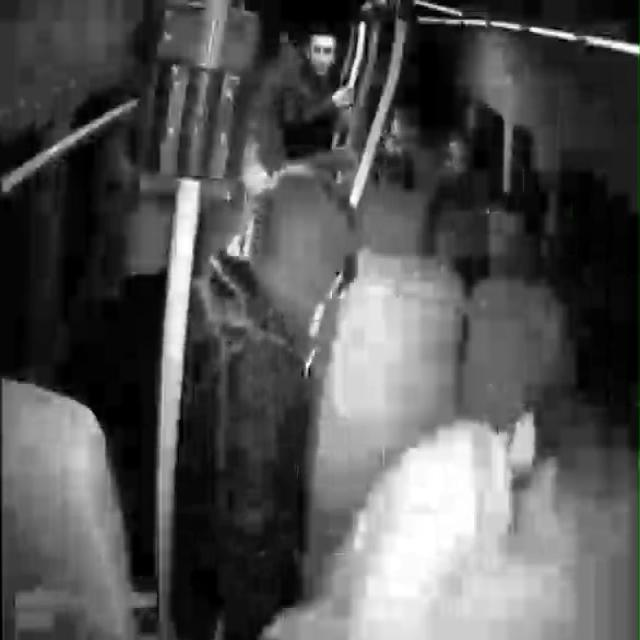fight: (248, 28, 356, 178)
